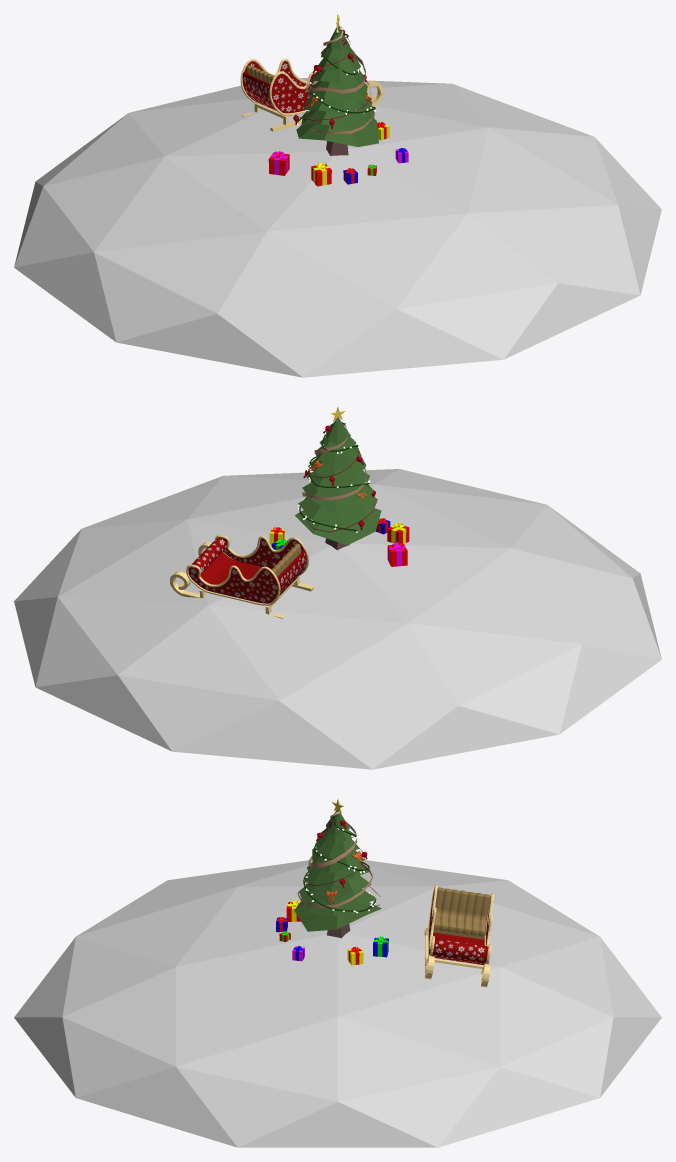
Rendered from xmas-toonish.gltf.
The picture shows the model from 3 angles, top to bottom: view 1: azimuth 30°, elevation 25°; view 2: azimuth 150°, elevation 25°; view 3: azimuth 270°, elevation 25°; orthographic projection. The views are drawn at different scales.
Visible parts, largest first — view 1: Snow Mound, Sleigh Mesh, Xmas Tree Gifts, Cone.007, Cone.006, Cone.005, Cone.004, Veil_Thick, Cone.003; view 2: Snow Mound, Sleigh Mesh, Xmas Tree Gifts, Cone.006, Cone.007, Cone.005, Cone.004, Cone.003, Cone.002; view 3: Snow Mound, Sleigh Mesh, Xmas Tree Gifts, Cone.007, Cone.006, Cone.005, Cone.004, Veil_Thick, Cone.003, Cone.002.
Part boxes in pixels (x1=…): Snow Mound: x1=14, y1=78, x2=661, y2=377; Sleigh Mesh: x1=240, y1=58, x2=383, y2=131; Xmas Tree Gifts: x1=268, y1=122, x2=408, y2=186; Cone.007: x1=296, y1=119, x2=378, y2=146; Cone.006: x1=301, y1=109, x2=374, y2=128; Cone.005: x1=303, y1=97, x2=371, y2=116; Cone.004: x1=309, y1=81, x2=367, y2=100; Veil_Thick: x1=306, y1=26, x2=373, y2=134; Cone.003: x1=310, y1=69, x2=364, y2=86; Snow Mound: x1=14, y1=469, x2=661, y2=769; Sleigh Mesh: x1=170, y1=535, x2=313, y2=618; Xmas Tree Gifts: x1=269, y1=518, x2=409, y2=566; Cone.006: x1=298, y1=495, x2=377, y2=531; Cone.007: x1=295, y1=508, x2=381, y2=545; Cone.005: x1=302, y1=483, x2=373, y2=513; Cone.004: x1=306, y1=471, x2=369, y2=499; Cone.003: x1=310, y1=456, x2=366, y2=483; Cone.002: x1=314, y1=446, x2=361, y2=469; Snow Mound: x1=14, y1=859, x2=661, y2=1147; Sleigh Mesh: x1=424, y1=884, x2=493, y2=987; Xmas Tree Gifts: x1=276, y1=900, x2=388, y2=965; Cone.007: x1=294, y1=901, x2=381, y2=931; Cone.006: x1=299, y1=886, x2=376, y2=915; Cone.005: x1=305, y1=874, x2=371, y2=902; Cone.004: x1=307, y1=863, x2=368, y2=886; Veil_Thick: x1=297, y1=811, x2=372, y2=908; Cone.003: x1=312, y1=847, x2=363, y2=873; Cone.002: x1=316, y1=838, x2=359, y2=858.
Size of what is drawn, in the model's own units: 19.02 by 7.47 by 20.
8 materials, 4 textured.
